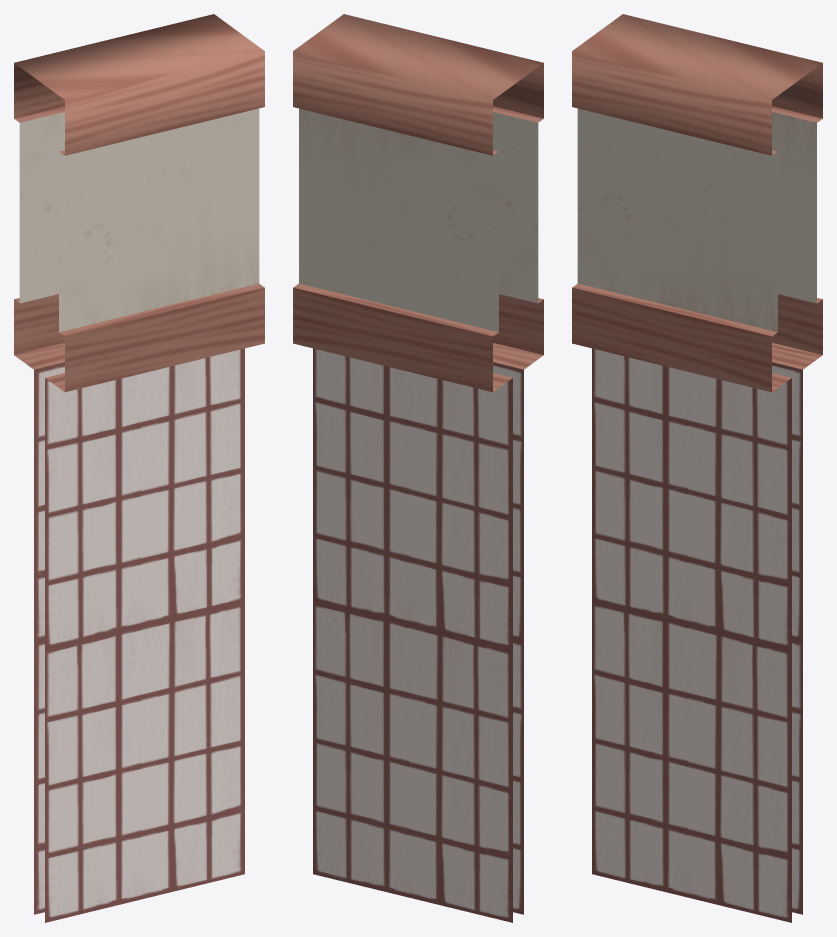
File: paret_porta.fbx
3 renders of one model, left to right at view 1: azimuth 30°, elevation 25°; view 2: azimuth 150°, elevation 25°; view 3: azimuth 330°, elevation 25°, orthographic.
Visible parts, largest first — view 1: Pared_Puerta; view 2: Pared_Puerta; view 3: Pared_Puerta.
Boxes of the visible parts, x1=… form: Pared_Puerta: x1=14, y1=14, x2=264, y2=922; Pared_Puerta: x1=293, y1=14, x2=543, y2=922; Pared_Puerta: x1=572, y1=14, x2=822, y2=922.
Size of the model in its own units: 100 by 400 by 44.
